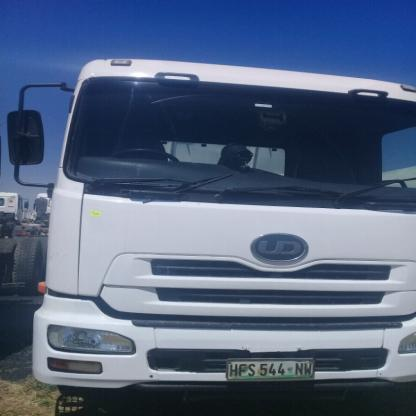dump_truck: (21, 42, 416, 399)
